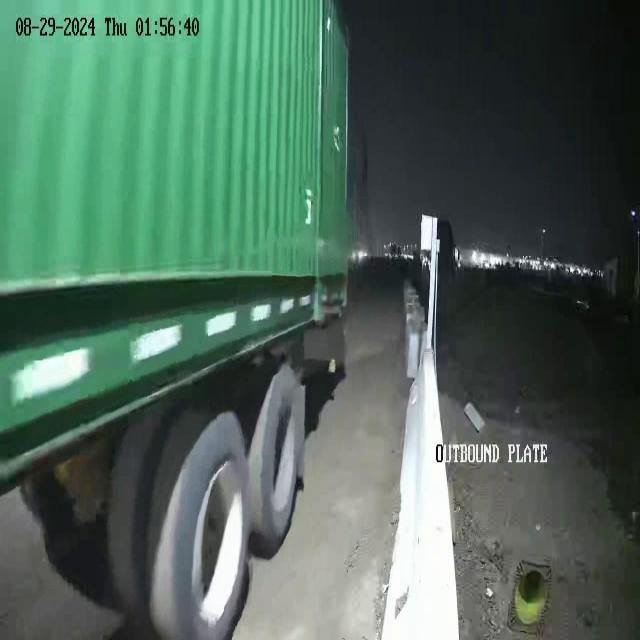TRUCK_OUT: (1, 1, 355, 637)
